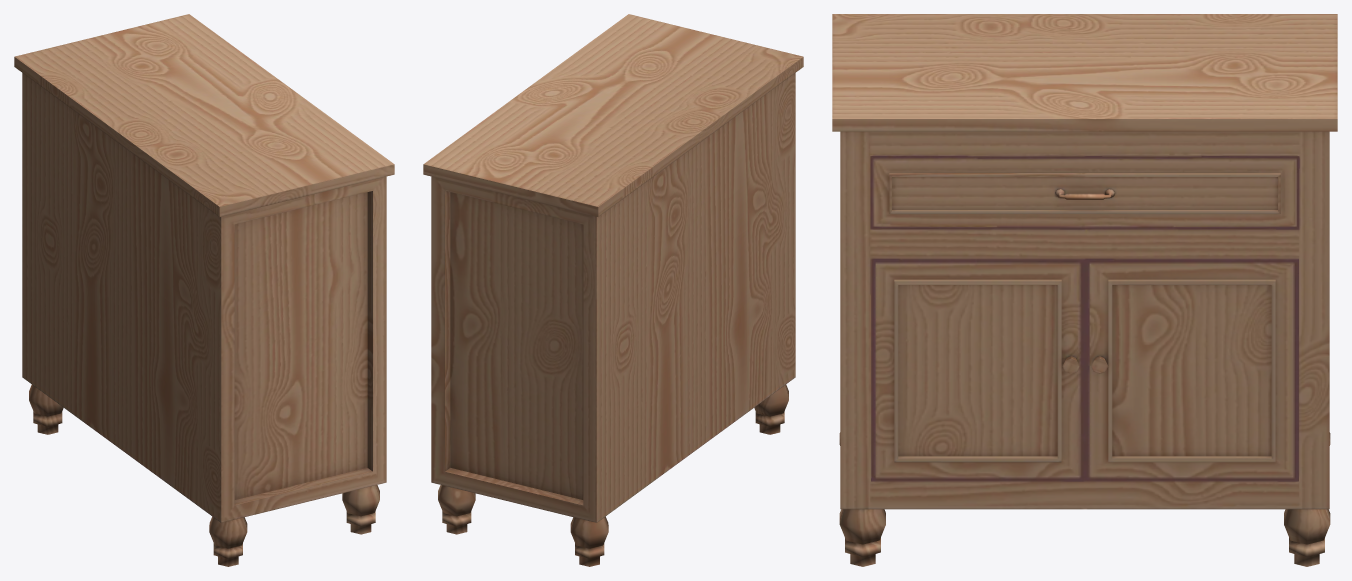
Rendered from cabinet02.glb.
3 renders of one model, left to right at view 1: azimuth 30°, elevation 25°; view 2: azimuth 150°, elevation 25°; view 3: azimuth 270°, elevation 25°, orthographic. The views are drawn at different scales.
Parts seen in each view (by area): view 1: cabinet02; view 2: cabinet02; view 3: cabinet02.
Boxes of the visible parts, x1,y1,x2,y2 form: cabinet02: (14,14,394,566); cabinet02: (423,14,803,566); cabinet02: (832,14,1337,566).
Bounding box in the file's own units: 0.3986 × 0.7905 × 0.7972.
1 material, 1 textured.
